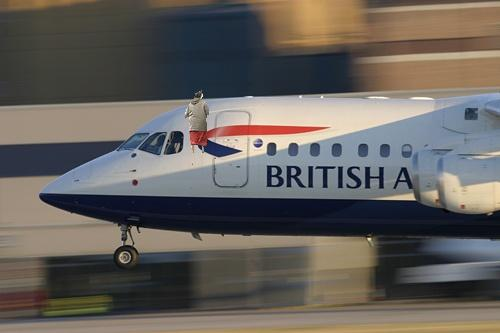tampered: (186, 91, 209, 153)
